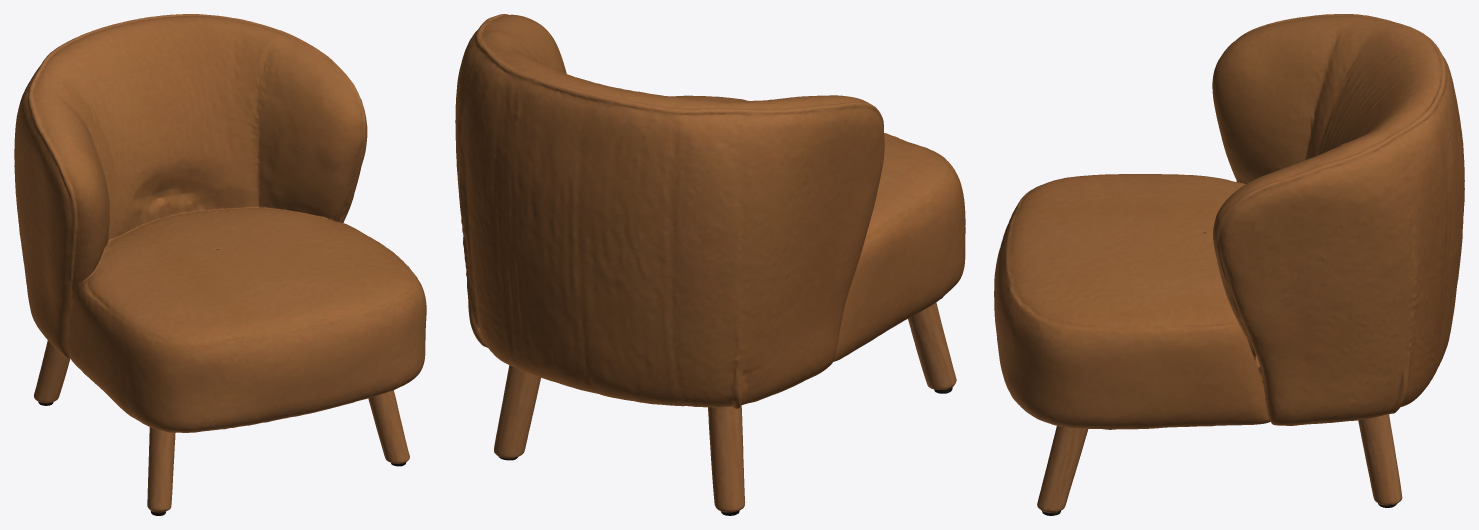
File: unidentified_model_kbznms.glb
The picture shows the model from 3 angles, left to right: view 1: azimuth 30°, elevation 25°; view 2: azimuth 150°, elevation 25°; view 3: azimuth 270°, elevation 25°; orthographic projection. The views are drawn at different scales.
Parts seen in each view (by area): view 1: world; view 2: world; view 3: world.
Part boxes in pixels (box(x1,y1,x2,y2)): world: box(14, 14, 426, 515); world: box(455, 14, 965, 515); world: box(994, 14, 1464, 515).
Size of the model in its own units: 0.8533 by 0.9054 by 1.
1 material, 1 textured.
